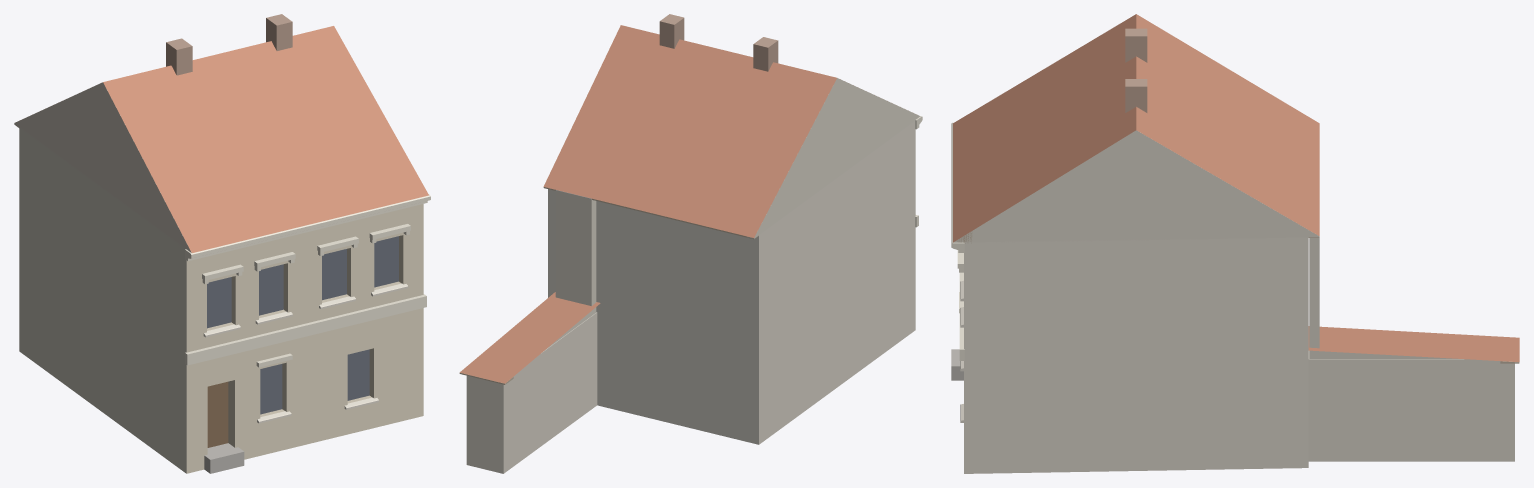
The picture shows the model from 3 angles, left to right: view 1: azimuth 30°, elevation 25°; view 2: azimuth 150°, elevation 25°; view 3: azimuth 270°, elevation 25°; orthographic projection. The views are drawn at different scales.
Visible parts, largest first — view 1: CP_1065_Masonry, CP_1065_Roof, CP_1065_Gable_L_gable, CP_1065_Cornice_string_0, CP_1065_Cornice_main_0, CP_1065_Threshold_D1, CP_1065_Chimney_0, CP_1065_Chimney_1; view 2: CP_1065_Masonry, CP_1065_Roof, CP_1065_Rear_Wing_Wall, CP_1065_Gable_L_gable, CP_1065_AtticClosure_1, CP_1065_WingRoof_Rear_Wing_Roof, CP_1065_Chimney_0, CP_1065_Chimney_1; view 3: CP_1065_Masonry, CP_1065_Roof, CP_1065_Rear_Wing_Wall, CP_1065_Gable_R_gable, CP_1065_WingRoof_Rear_Wing_Roof, CP_1065_AtticClosure_1, CP_1065_Chimney_0, CP_1065_Chimney_1.
Part boxes in pixels (box(x1,y1,x2,y2)): CP_1065_Masonry: box(19, 127, 423, 473); CP_1065_Roof: box(19, 26, 428, 252); CP_1065_Gable_L_gable: box(14, 82, 191, 252); CP_1065_Cornice_string_0: box(185, 294, 426, 365); CP_1065_Cornice_main_0: box(185, 194, 430, 261); CP_1065_Threshold_D1: box(204, 443, 244, 473); CP_1065_Chimney_0: box(166, 38, 192, 75); CP_1065_Chimney_1: box(266, 14, 292, 50); CP_1065_Masonry: box(548, 121, 915, 444); CP_1065_Roof: box(543, 25, 908, 237); CP_1065_Rear_Wing_Wall: box(466, 312, 597, 473); CP_1065_Gable_L_gable: box(746, 78, 920, 238); CP_1065_AtticClosure_1: box(545, 190, 596, 349); CP_1065_WingRoof_Rear_Wing_Roof: box(460, 292, 600, 383); CP_1065_Chimney_0: box(753, 37, 778, 71); CP_1065_Chimney_1: box(659, 14, 684, 48); CP_1065_Masonry: box(964, 237, 1308, 473); CP_1065_Roof: box(953, 14, 1319, 242); CP_1065_Rear_Wing_Wall: box(1308, 351, 1514, 461); CP_1065_Gable_R_gable: box(953, 130, 1319, 242); CP_1065_WingRoof_Rear_Wing_Roof: box(1308, 326, 1519, 362); CP_1065_AtticClosure_1: box(1309, 236, 1457, 358); CP_1065_Chimney_0: box(1125, 28, 1147, 62); CP_1065_Chimney_1: box(1125, 79, 1147, 112).
Size of the model in its own units: 9.1 by 12.7 by 18.13.
